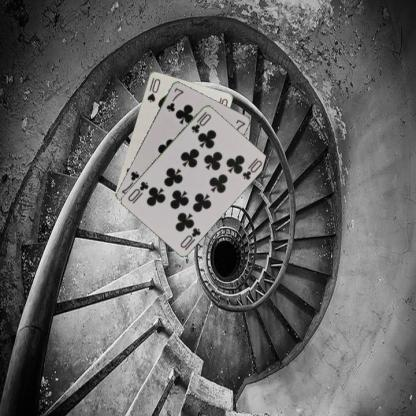10c: (188, 109, 212, 134), (178, 224, 202, 249)
10s: (145, 74, 162, 104)
7c: (163, 85, 185, 113)
